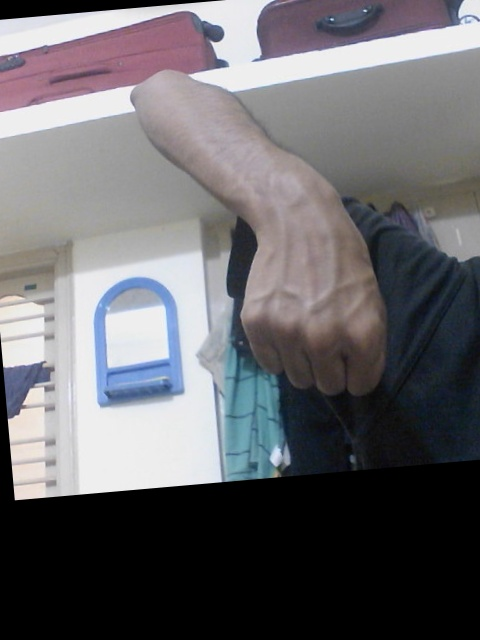hand: (235, 194, 391, 402)
